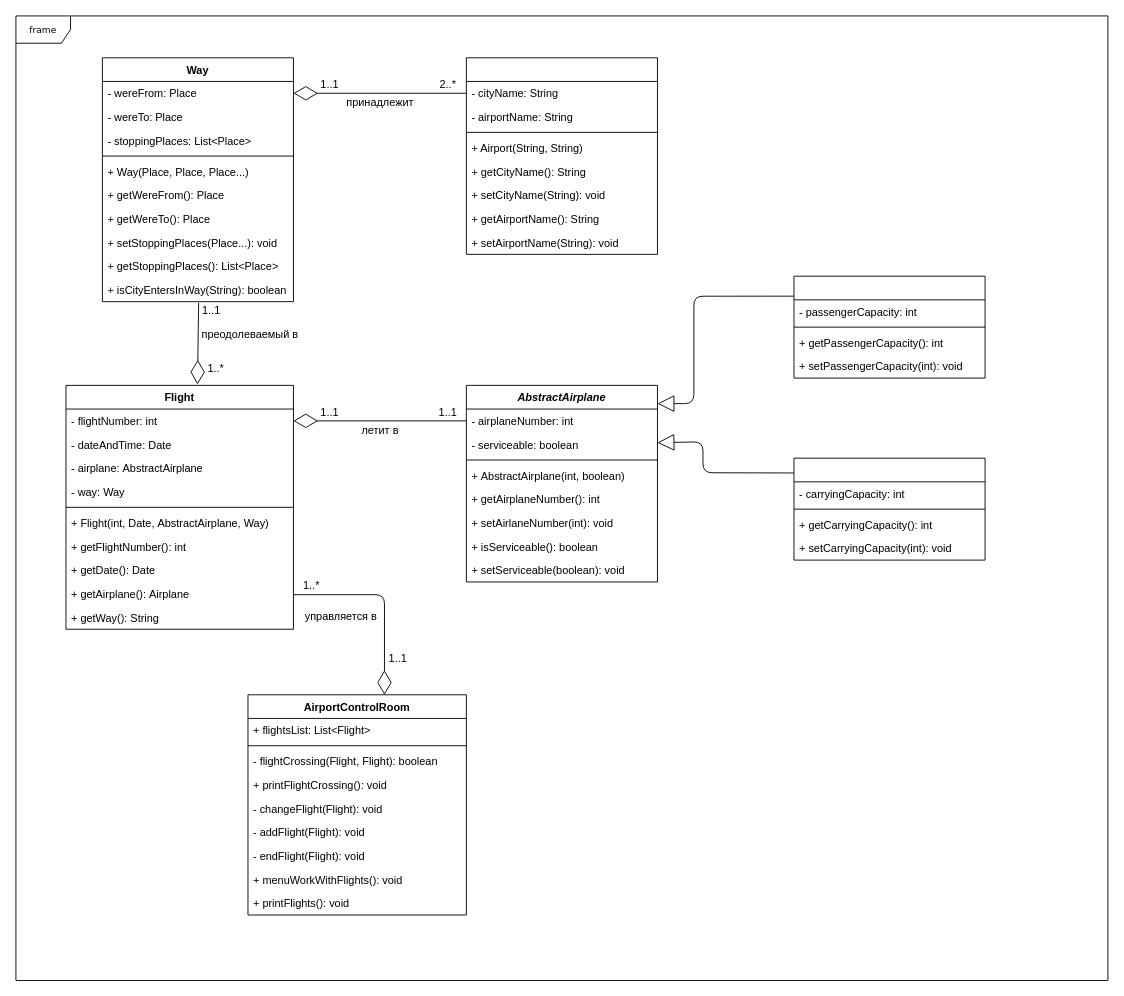
This 1124x996 diagram has some shape labels left out. The box of each missing label's shape, as (x1, y1, x2, y2) in pixels:
CargoAirplane: (793, 457, 985, 560)
PassengerAirplane: (793, 275, 985, 378)
Place: (465, 57, 657, 254)
